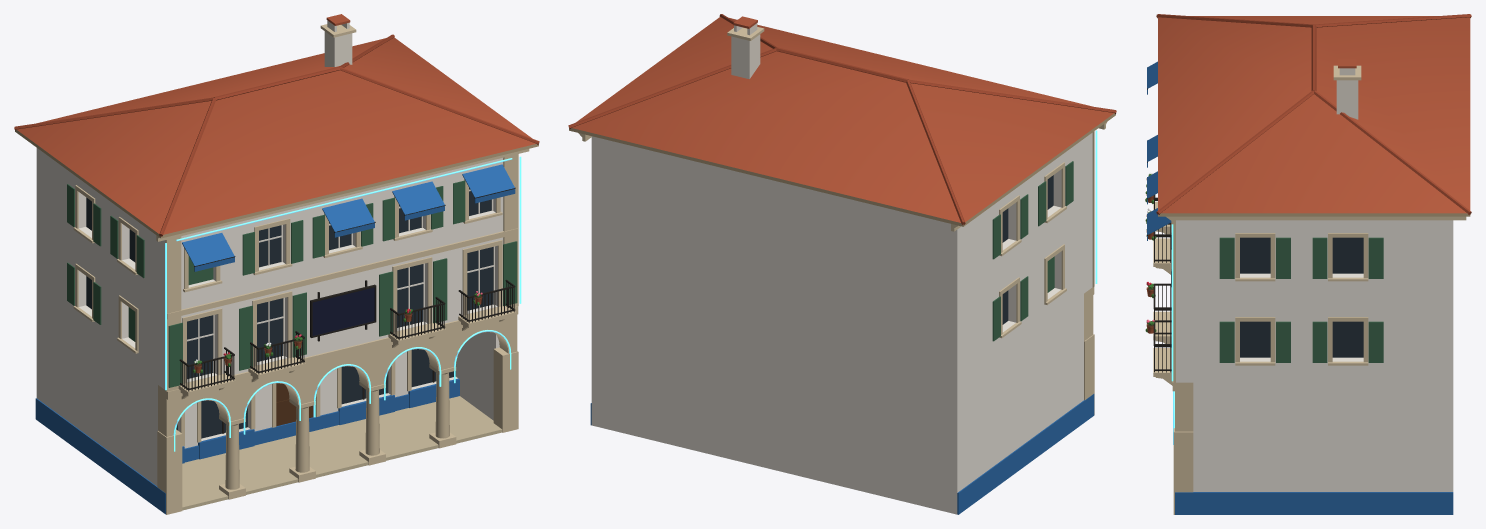
The picture shows the model from 3 angles, left to right: view 1: azimuth 30°, elevation 25°; view 2: azimuth 150°, elevation 25°; view 3: azimuth 270°, elevation 25°; orthographic projection. The views are drawn at different scales.
Visible parts, largest first — view 1: projects.lod0; view 2: projects.lod0; view 3: projects.lod0.
Boxes of the visible parts, x1=… form: projects.lod0: x1=14, y1=14, x2=539, y2=514; projects.lod0: x1=568, y1=14, x2=1116, y2=514; projects.lod0: x1=1145, y1=14, x2=1471, y2=514.
Bounding box in the file's own units: 15.2 × 14.31 × 10.56.
